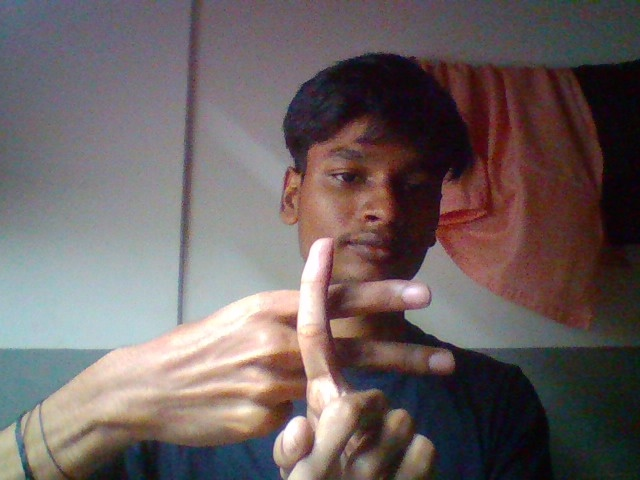K: (140, 221, 502, 480)
